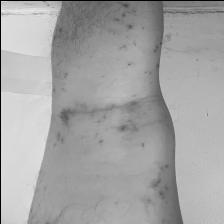DA: (48, 57, 154, 168)
